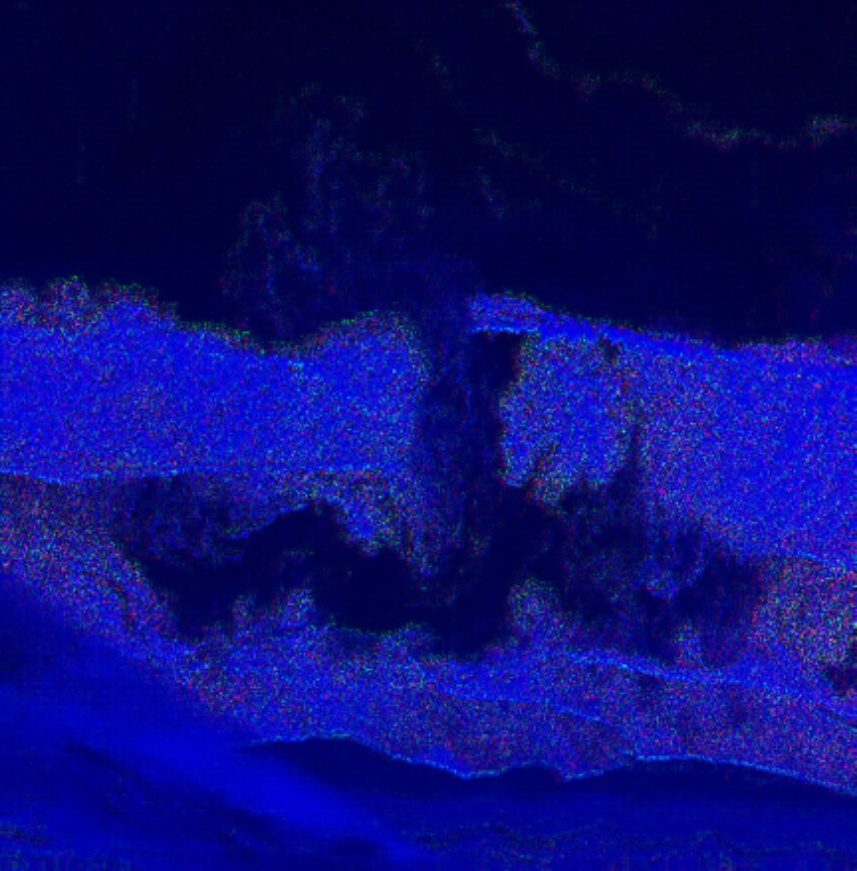rip_current: (301, 146, 569, 639)
